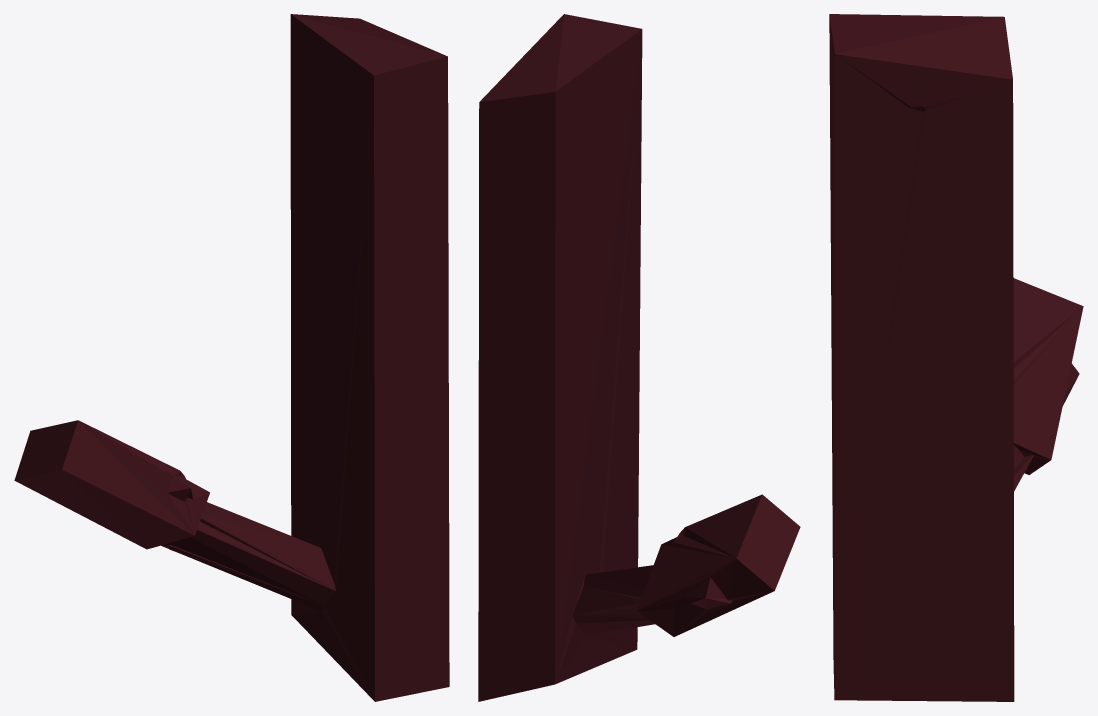
The picture shows the model from 3 angles, left to right: view 1: azimuth 30°, elevation 25°; view 2: azimuth 150°, elevation 25°; view 3: azimuth 270°, elevation 25°; orthographic projection. The views are drawn at different scales.
Parts seen in each view (by area): view 1: 747_Cube.3001; view 2: 747_Cube.3001; view 3: 747_Cube.3001.
Part boxes in pixels (bbox=[...]): 747_Cube.3001: bbox=[14, 14, 449, 701]; 747_Cube.3001: bbox=[478, 14, 800, 701]; 747_Cube.3001: bbox=[829, 14, 1083, 701].
Bounding box in the file's own units: 6.74 × 12.49 × 4.43.
